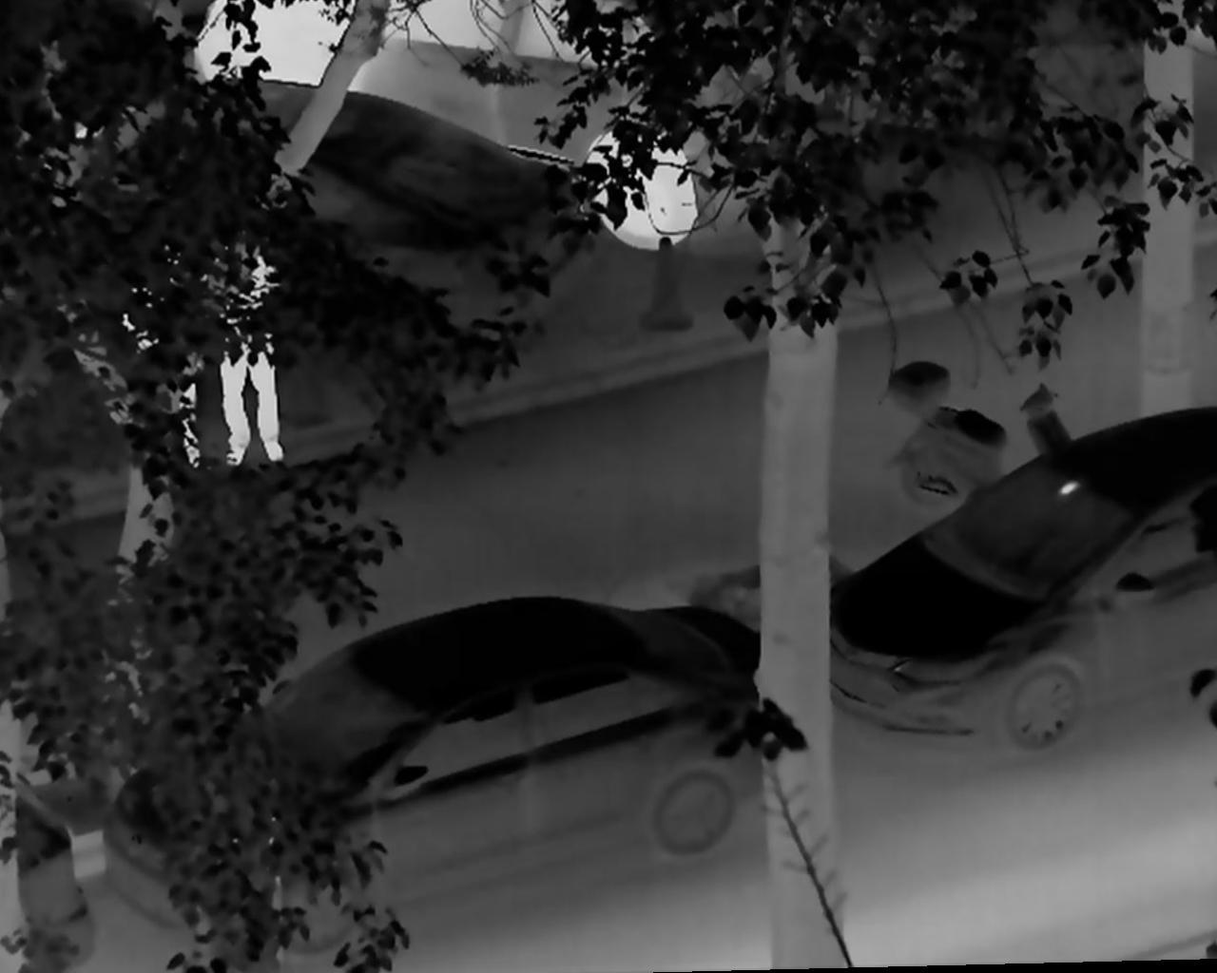person: (111, 206, 217, 488), (207, 217, 309, 477)
